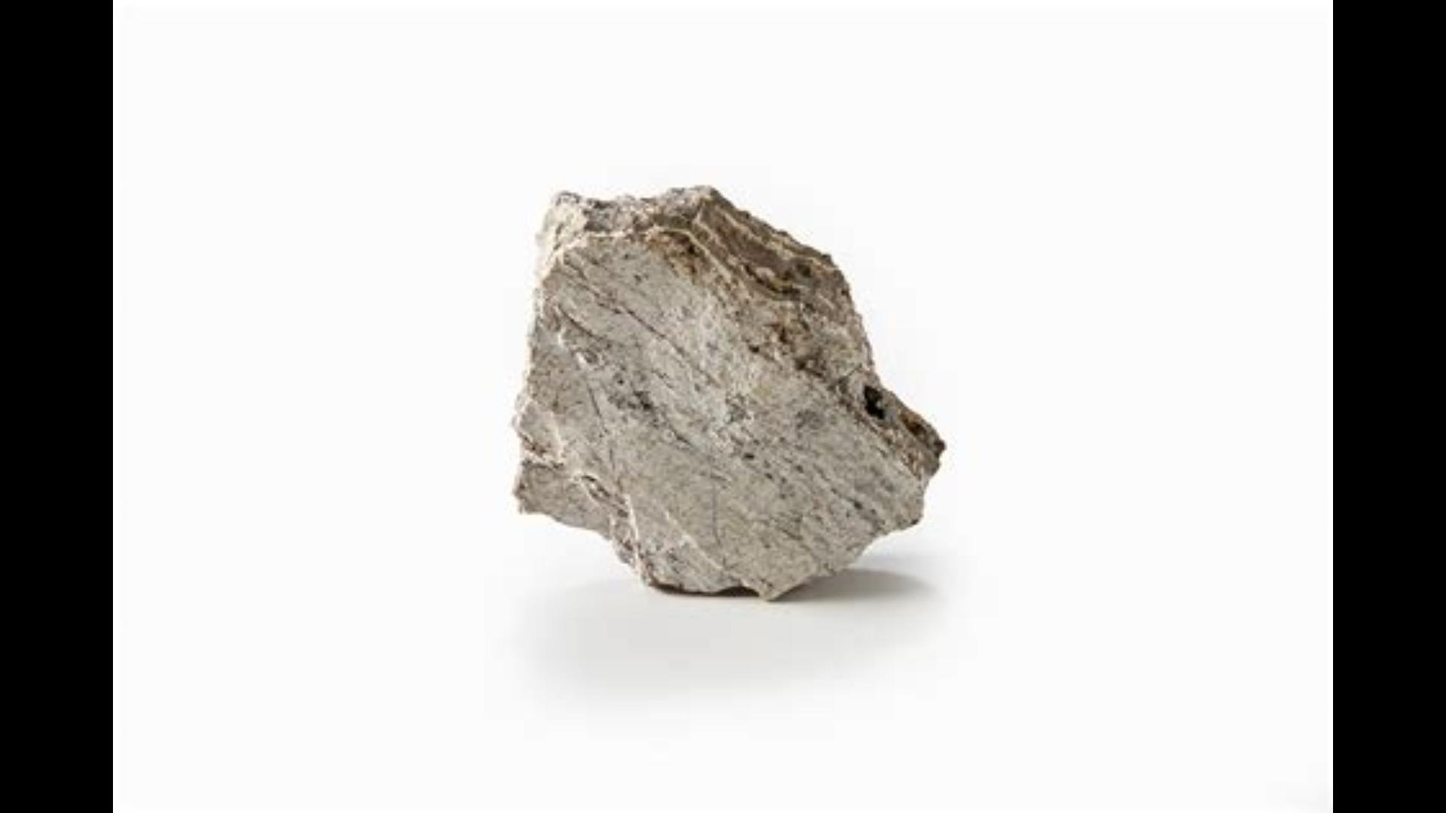rock: (515, 185, 942, 594)
